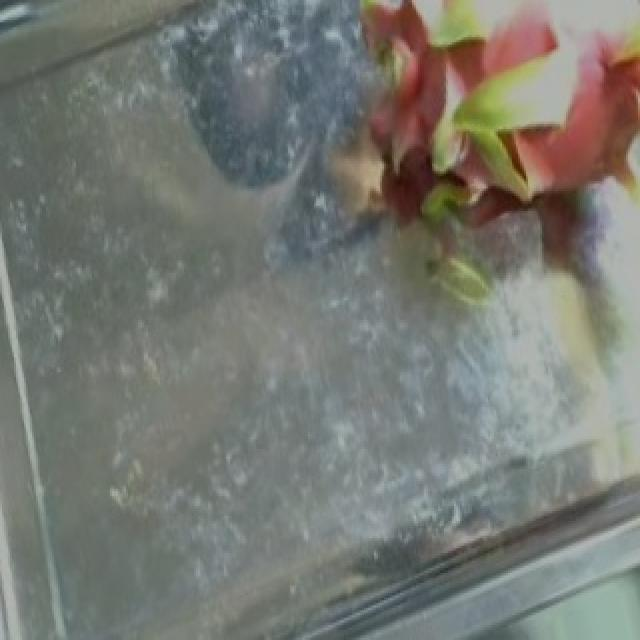fruit: (284, 0, 640, 370)
